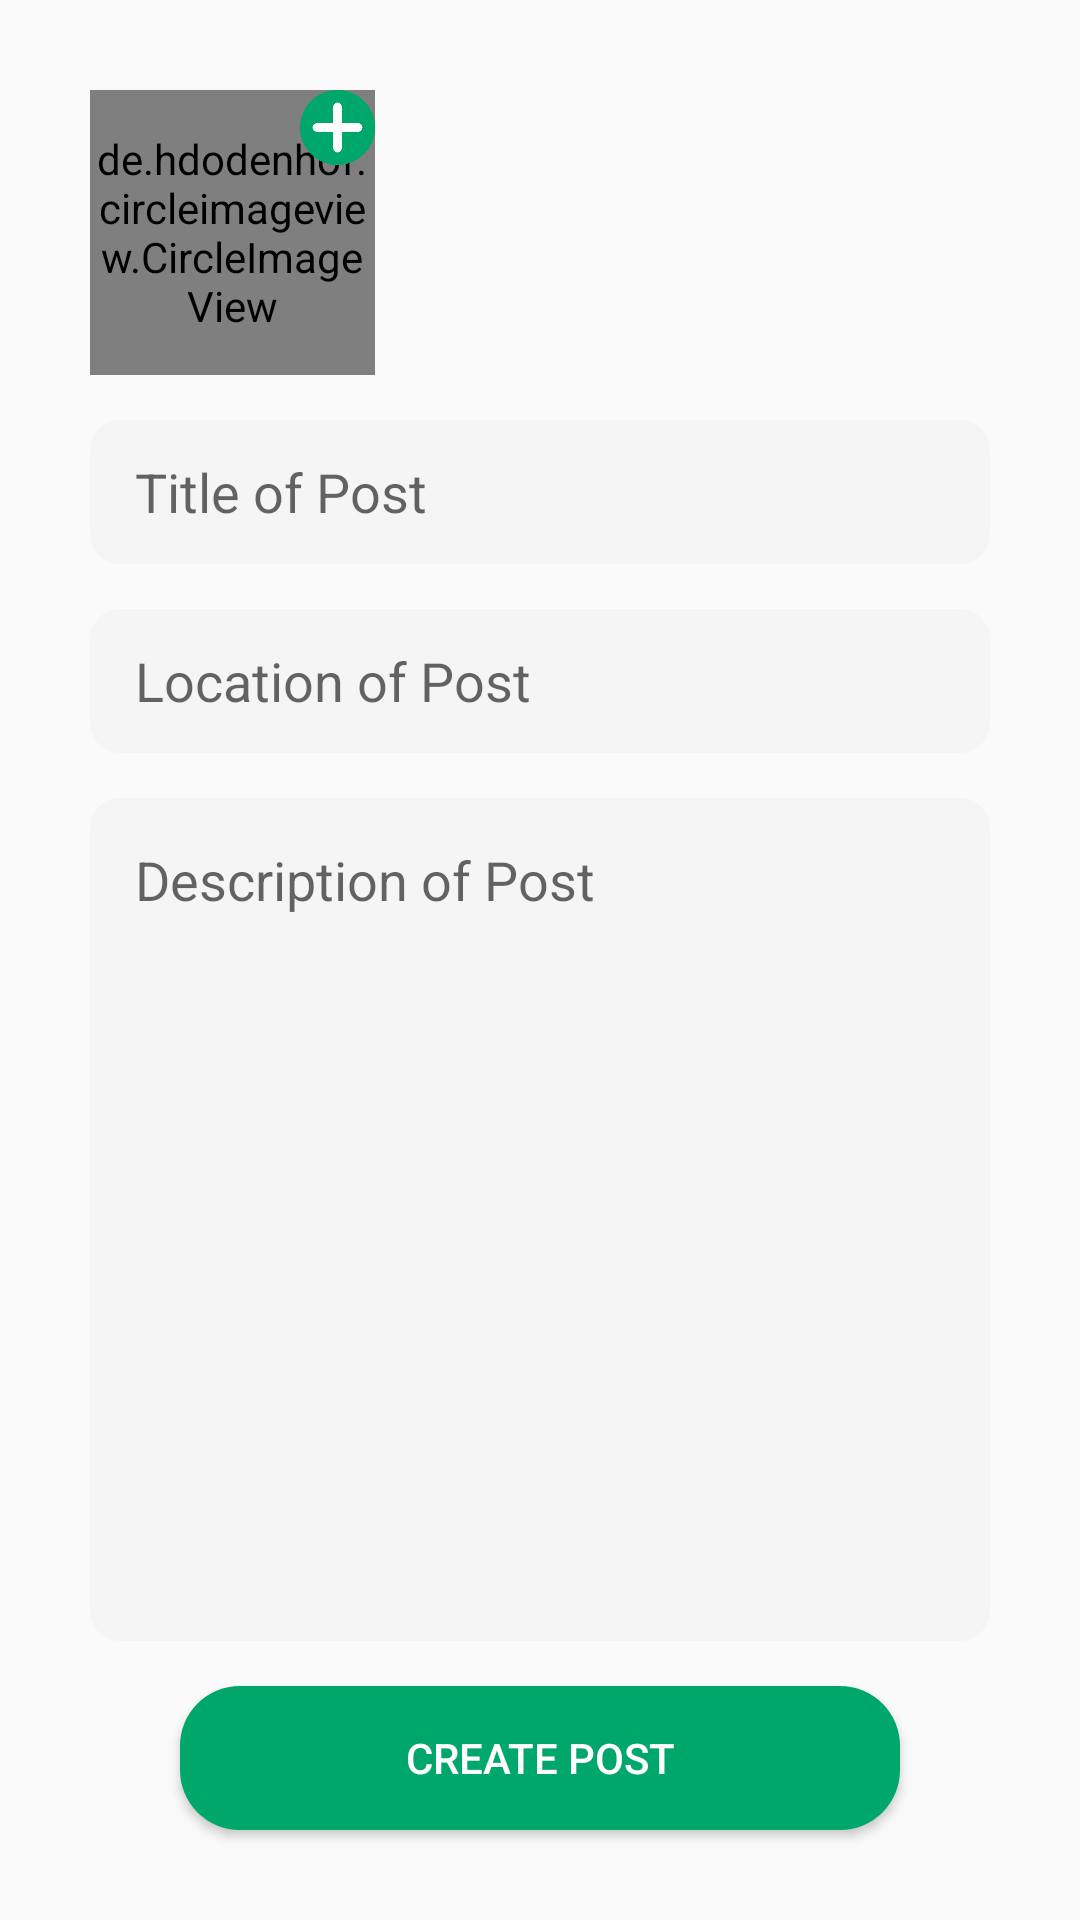

Screen size 1080w x 1920h. Icon name, then its center in pixels as [x,y]:
add: [337,127]
